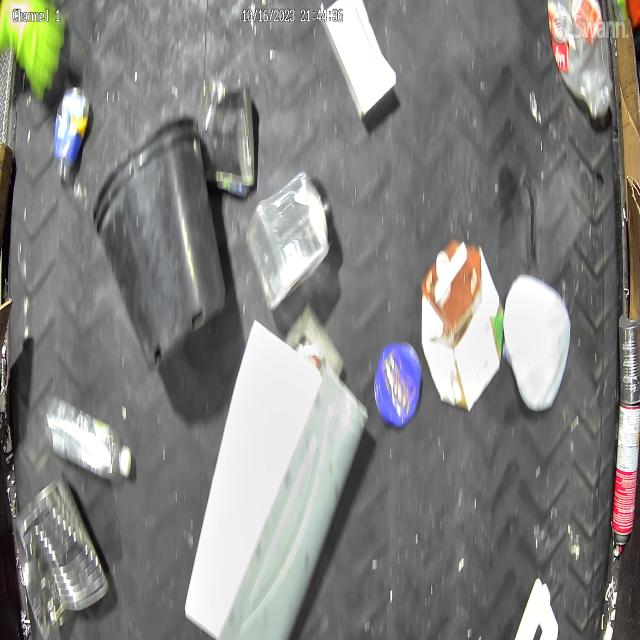can: (12, 471, 110, 640), (199, 76, 256, 198), (611, 406, 640, 554), (618, 317, 640, 407)
milk_jug: (502, 272, 573, 412)
plastic_bottle: (546, 0, 612, 121), (45, 397, 133, 482)
